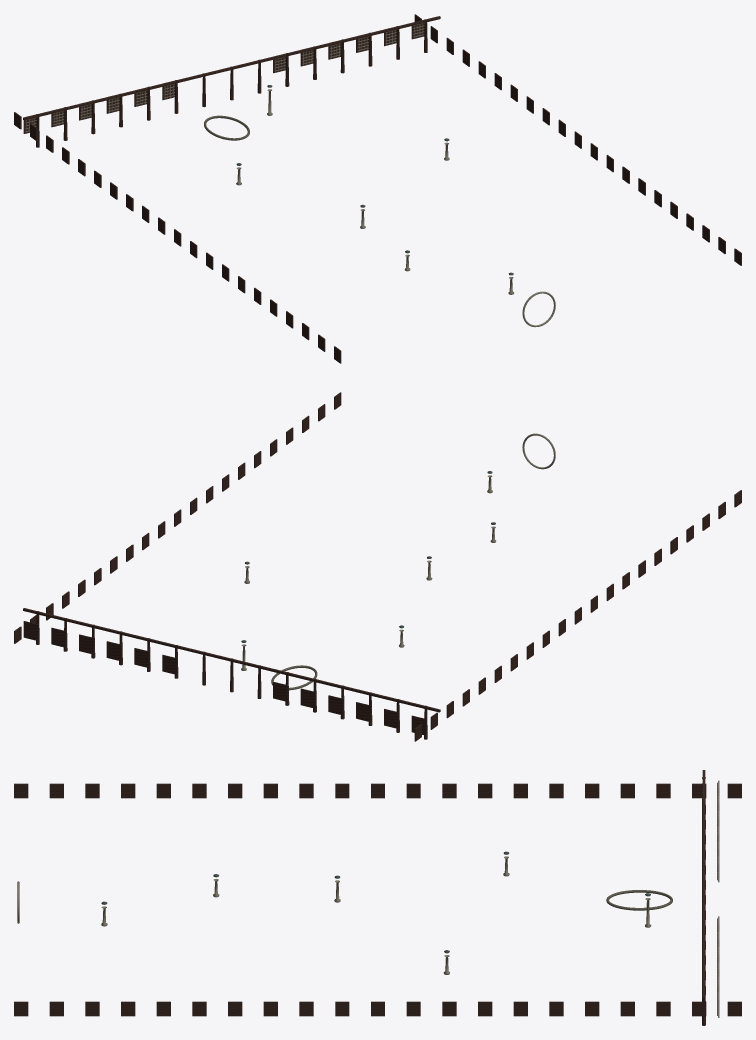
File: garden_props.glb
The picture shows the model from 3 angles, top to bottom: view 1: azimuth 30°, elevation 25°; view 2: azimuth 150°, elevation 25°; view 3: azimuth 270°, elevation 25°; orthographic projection. The views are drawn at different scales.
Visible parts, largest first — view 1: garden_props0; view 2: garden_props0; view 3: garden_props0.
Boxes of the visible parts, box(x1,y1,x2,y2) form: garden_props0: box(14, 14, 741, 363); garden_props0: box(14, 392, 741, 741); garden_props0: box(14, 770, 741, 1025).
Size of the model in its own units: 45.1 by 3.59 by 61.2.
1 material, 1 textured.
